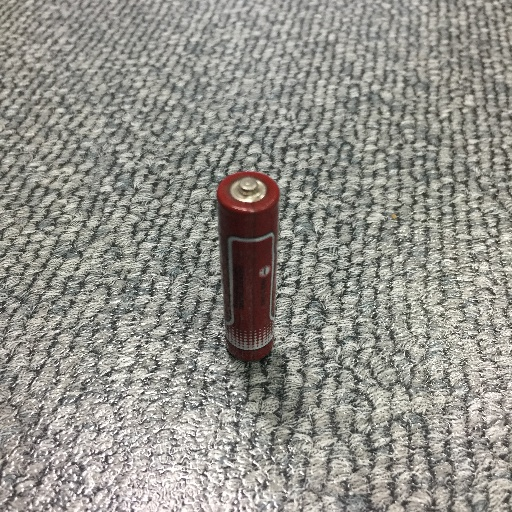Battery_0: (206, 159, 292, 376)
